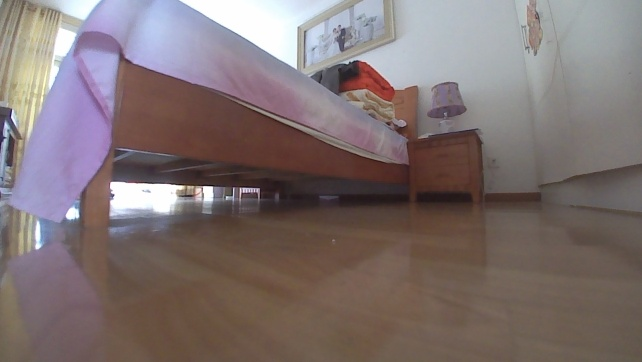bed: (6, 0, 420, 233)
cabinet: (405, 129, 488, 205)
